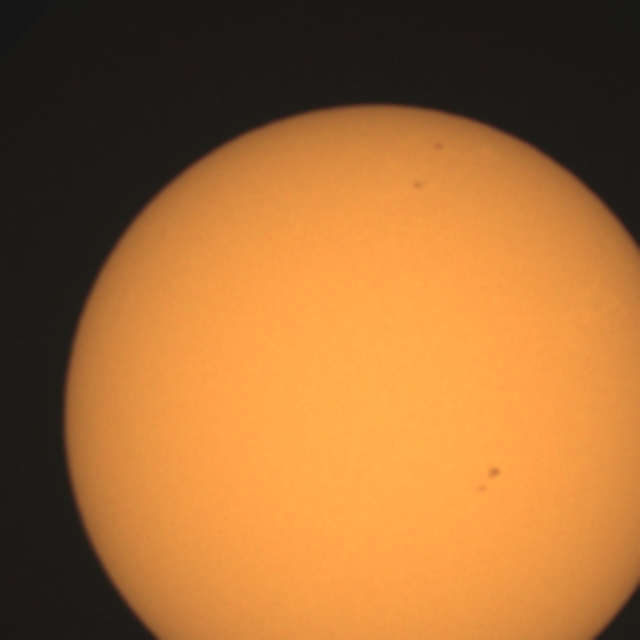sunspot: (470, 464, 504, 496), (410, 178, 428, 193), (431, 139, 446, 154)
